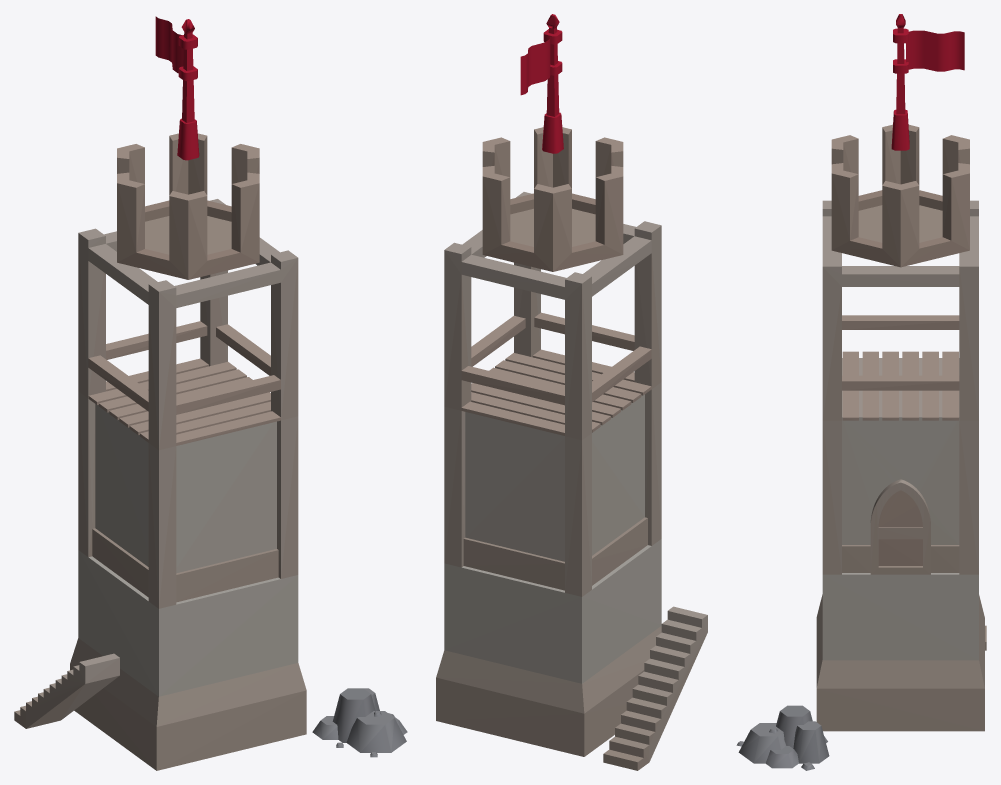
The model's file is watchtower.glb.
3 renders of one model, left to right at view 1: azimuth 30°, elevation 25°; view 2: azimuth 150°, elevation 25°; view 3: azimuth 270°, elevation 25°, orthographic. The views are drawn at different scales.
Parts seen in each view (by area): view 1: watchtower; view 2: watchtower; view 3: watchtower.
Part boxes in pixels (x1,y1,x2,y2): watchtower: [14, 16, 407, 770]; watchtower: [436, 14, 707, 770]; watchtower: [736, 14, 986, 770].
Bounding box in the file's own units: 3.08 × 7.14 × 2.38.
